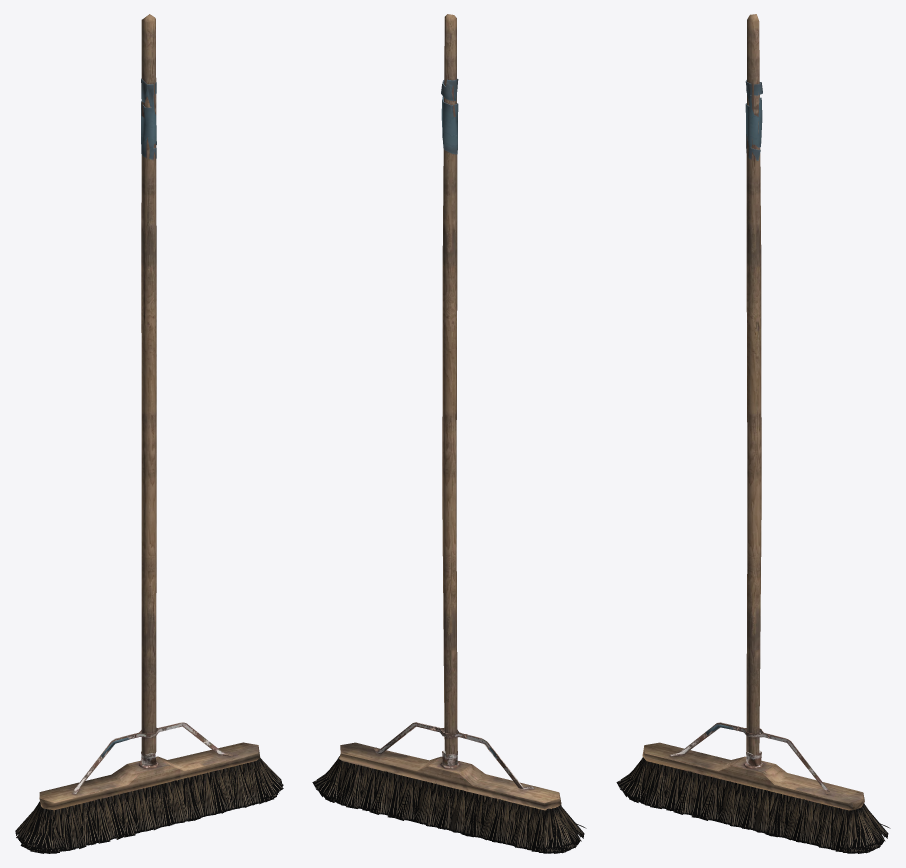
The model's file is wooden_broom.glb.
3 views of the same model, side by side, from view 1: azimuth 30°, elevation 25°; view 2: azimuth 150°, elevation 25°; view 3: azimuth 330°, elevation 25° (orthographic).
Visible parts, largest first — view 1: wooden_broom_handle, wooden_broom_bristles, wooden_broom; view 2: wooden_broom_bristles, wooden_broom_handle, wooden_broom; view 3: wooden_broom_bristles, wooden_broom_handle, wooden_broom.
Boxes of the visible parts, bbox=[...] form: wooden_broom_handle: bbox=[141, 14, 156, 765]; wooden_broom_bristles: bbox=[15, 758, 283, 853]; wooden_broom: bbox=[39, 722, 260, 817]; wooden_broom_bristles: bbox=[312, 756, 586, 853]; wooden_broom_handle: bbox=[441, 14, 458, 766]; wooden_broom: bbox=[339, 722, 561, 819]; wooden_broom_bristles: bbox=[616, 757, 890, 853]; wooden_broom_handle: bbox=[745, 14, 762, 766]; wooden_broom: bbox=[642, 722, 864, 819].
Size of the model in its own units: 0.4902 by 1.45 by 0.1125.
2 materials, 2 textured.
